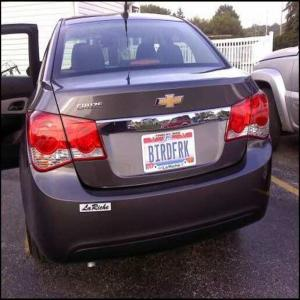Vehicle-registration-plate: (142, 129, 198, 175)
